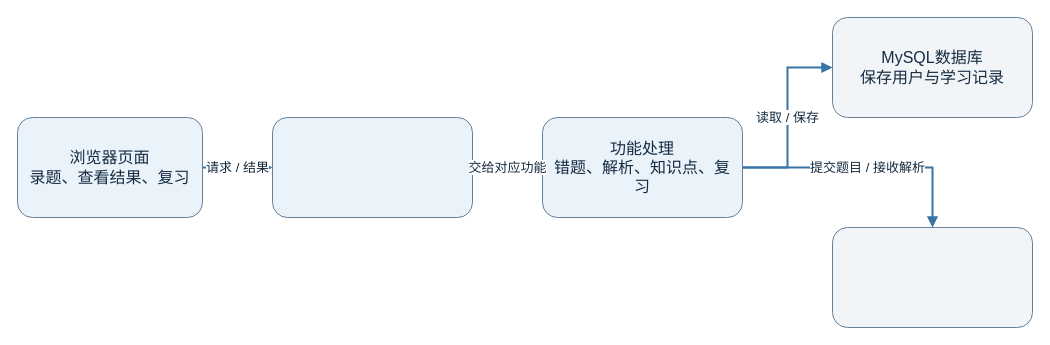
The diagram is 1050 pixels wide and 345 high, and some of its shapes have lost their labels. The shapes that lost their labels are listed below. From the top down, each one's centre as x and y in pixels, then its label:
(372,167): 请求入口（Spring Boot） 核对登录身份与输入
(932,277): 本地模型服务 生成七项解析内容
